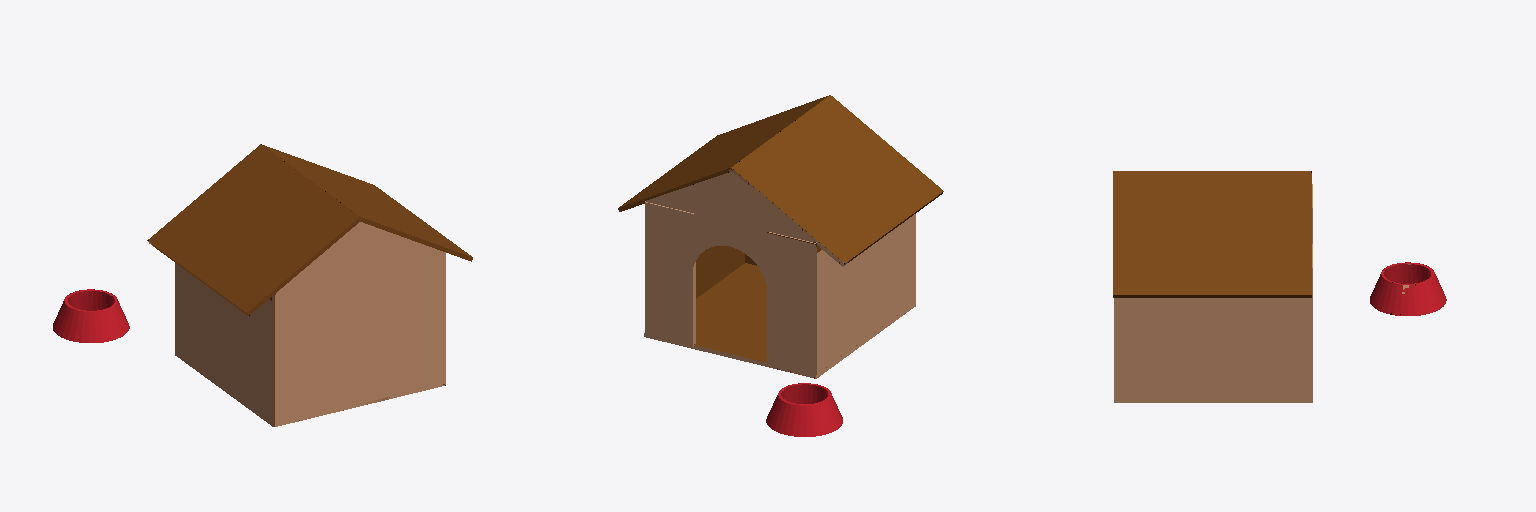
The picture shows the model from 3 angles: view 1: azimuth 30°, elevation 25°; view 2: azimuth 150°, elevation 25°; view 3: azimuth 270°, elevation 25°; orthographic projection.
Parts seen in each view (by area): view 1: Cube.027_Cube.028; view 2: Cube.027_Cube.028; view 3: Cube.027_Cube.028.
Boxes of the visible parts, box(x1,y1,x2,y2) form: Cube.027_Cube.028: box(53, 144, 472, 426); Cube.027_Cube.028: box(618, 95, 943, 436); Cube.027_Cube.028: box(1113, 171, 1446, 402).
Size of the model in its own units: 26.25 by 17.75 by 28.21.
1 materials, 1 textured.